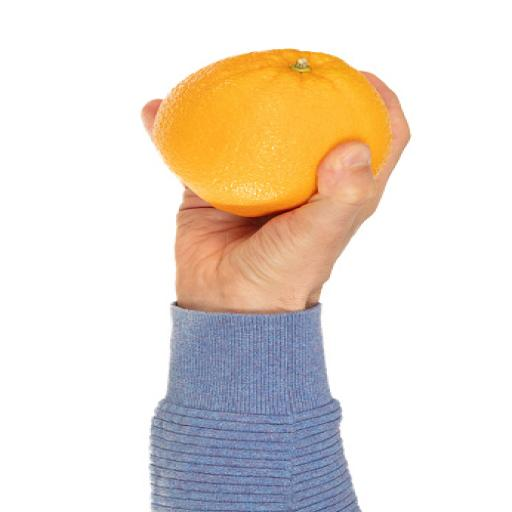orange: (154, 50, 392, 217)
